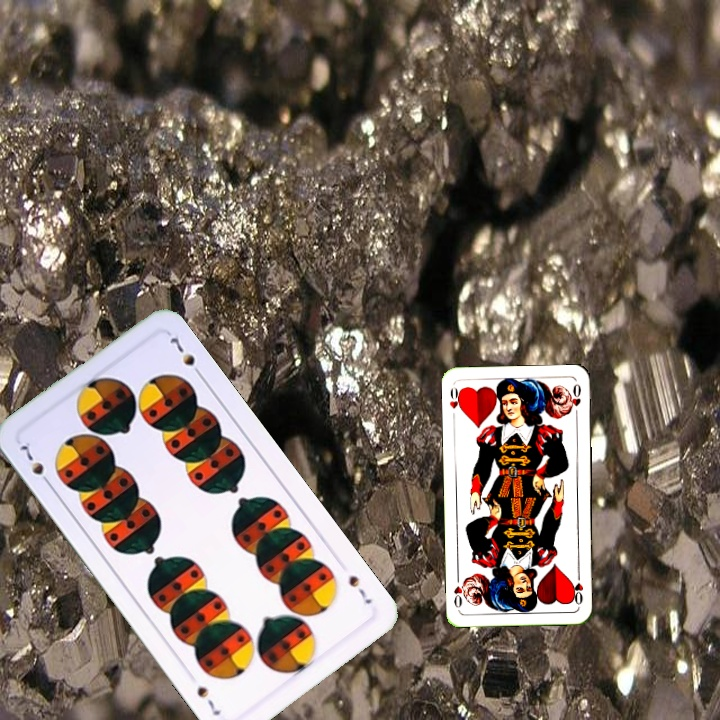HO: (445, 383, 465, 422), (569, 568, 586, 607)
S7: (16, 437, 55, 490), (344, 571, 375, 607)
